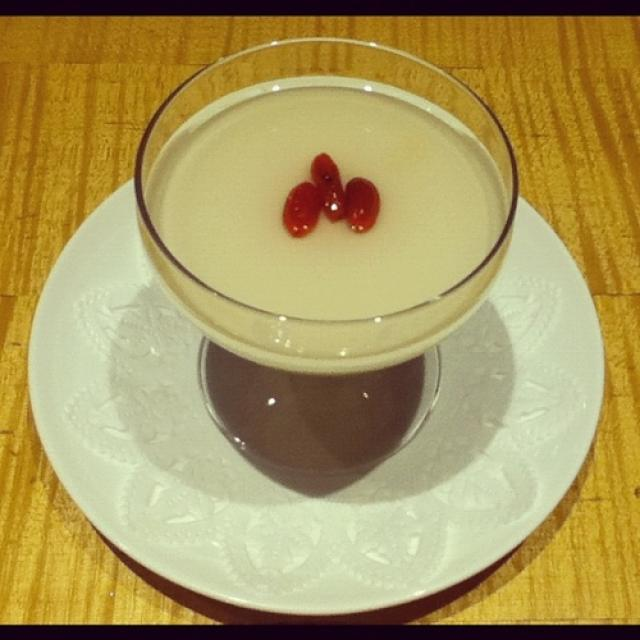面条主食: (73, 0, 574, 595)
